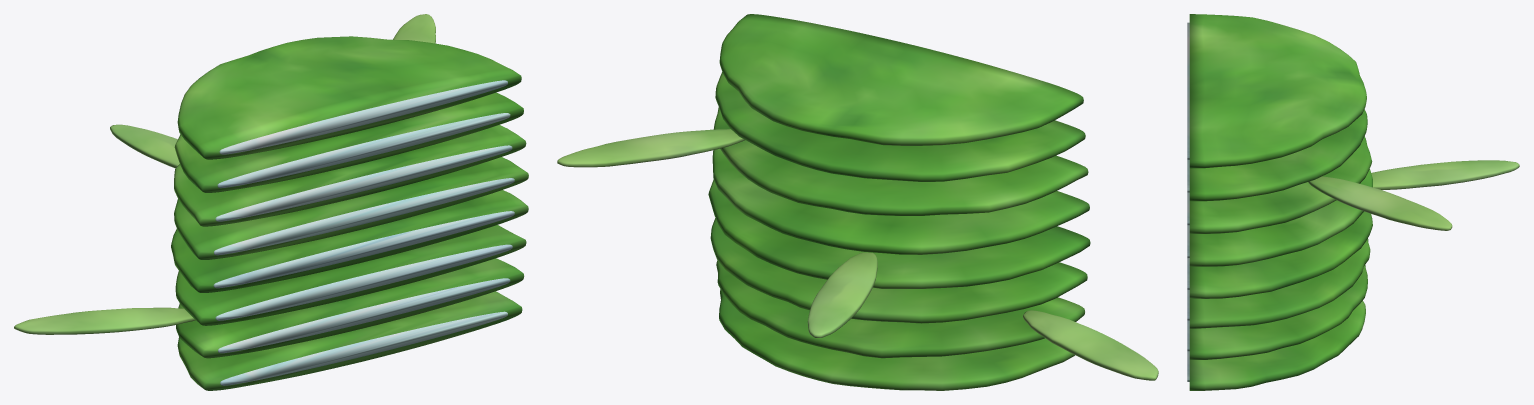
File: thylakoid-stack.glb
3 views of the same model, side by side, from view 1: azimuth 30°, elevation 25°; view 2: azimuth 150°, elevation 25°; view 3: azimuth 270°, elevation 25° (orthographic). The views are drawn at different scales.
Visible parts, largest first — view 1: thylakoid-stack-membrane, thylakoid-stack-lumen, thylakoid-stack-stroma-lamellae; view 2: thylakoid-stack-membrane, thylakoid-stack-stroma-lamellae; view 3: thylakoid-stack-membrane, thylakoid-stack-stroma-lamellae, thylakoid-stack-lumen.
Boxes of the visible parts, box(x1,y1,x2,y2) form: thylakoid-stack-membrane: box(171, 36, 528, 390); thylakoid-stack-lumen: box(213, 80, 514, 385); thylakoid-stack-stroma-lamellae: box(14, 14, 435, 334); thylakoid-stack-membrane: box(708, 14, 1090, 390); thylakoid-stack-stroma-lamellae: box(557, 129, 1158, 380); thylakoid-stack-membrane: box(1189, 14, 1372, 390); thylakoid-stack-stroma-lamellae: box(1308, 160, 1519, 230); thylakoid-stack-lumen: box(1187, 22, 1189, 381).
Size of what is drawn, in the model's own units: 2.94 by 1.48 by 1.8.
